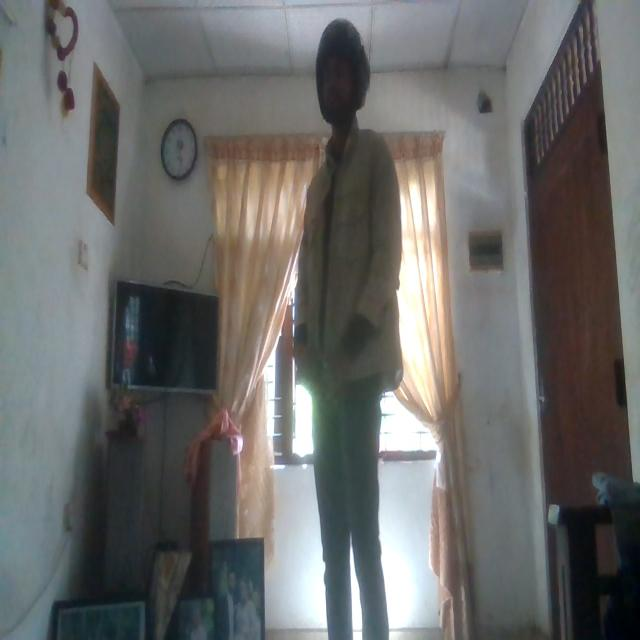Jacket_Wearer: (300, 126, 410, 411)
Person: (293, 17, 403, 634), (307, 11, 373, 146)
